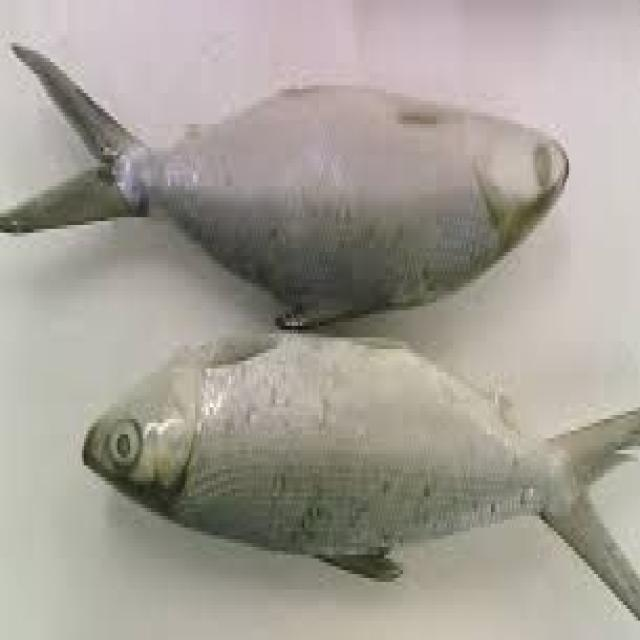Bangus: (0, 15, 627, 329)
